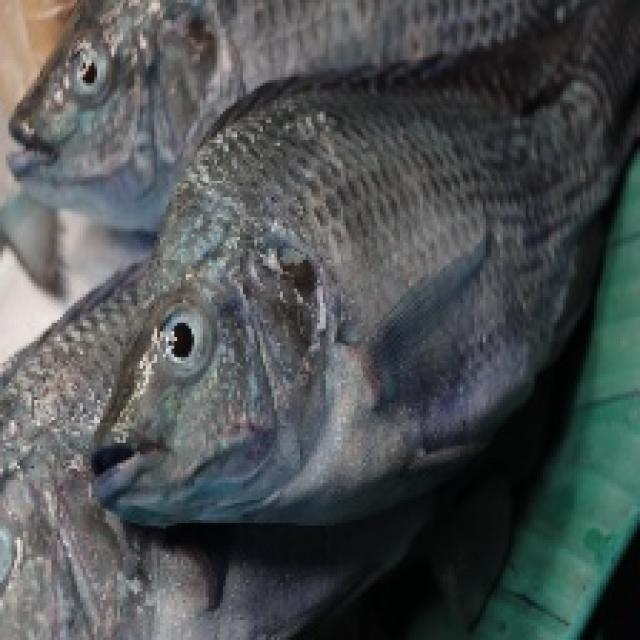Fresh: (197, 81, 596, 493), (148, 285, 233, 381), (59, 24, 112, 110)
